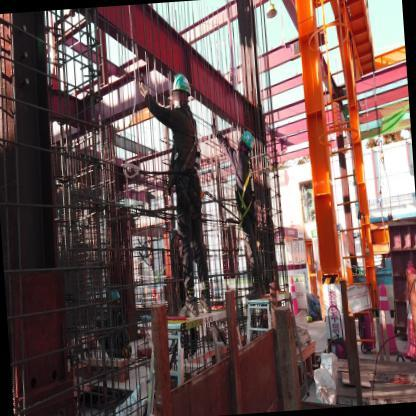safety-shoe: (176, 295, 199, 320), (198, 294, 213, 316), (244, 285, 264, 301)
